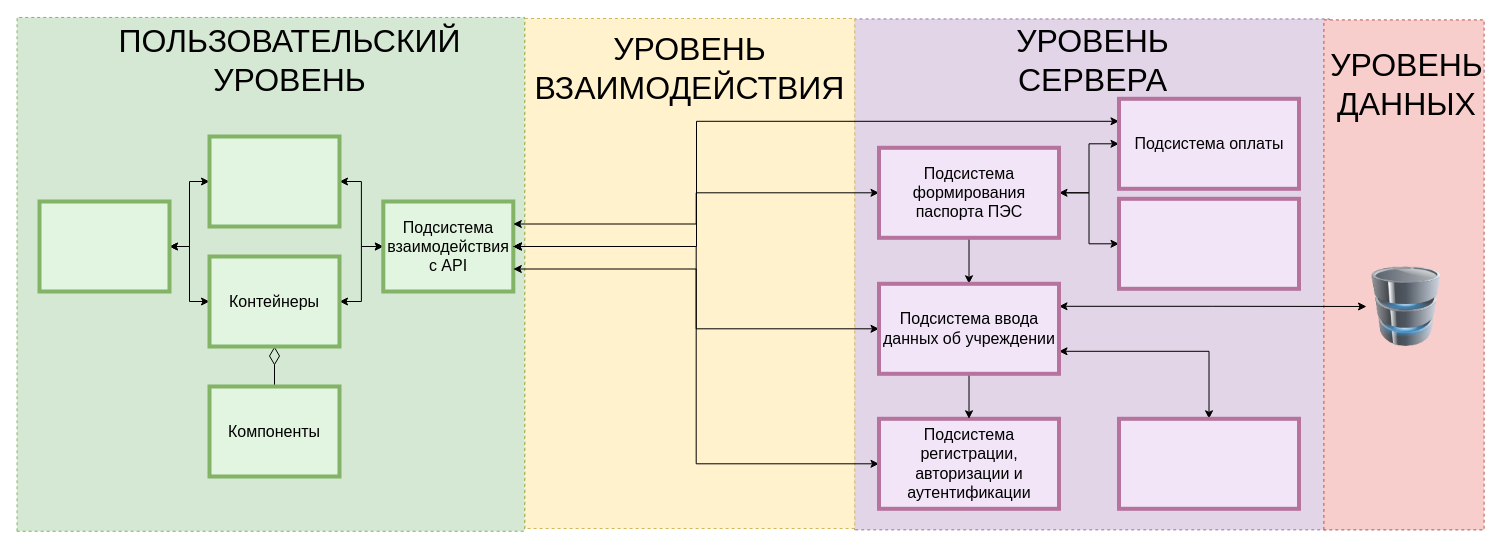
This 1509x549 diagram has some shape labels left out. Here are the shapes that lost their labels. From the top down, the centre of each, then its label:
At (274,181): "Подсистема предпоказа паспорта ПЭС".
At (104,246): "Подсистема роутинга".
At (1208,243): "Подсистема подбора энергосберегающих мероприятий".
At (1208,463): "Подсистема интеллектуальной валидации ввода данных пользователя".
